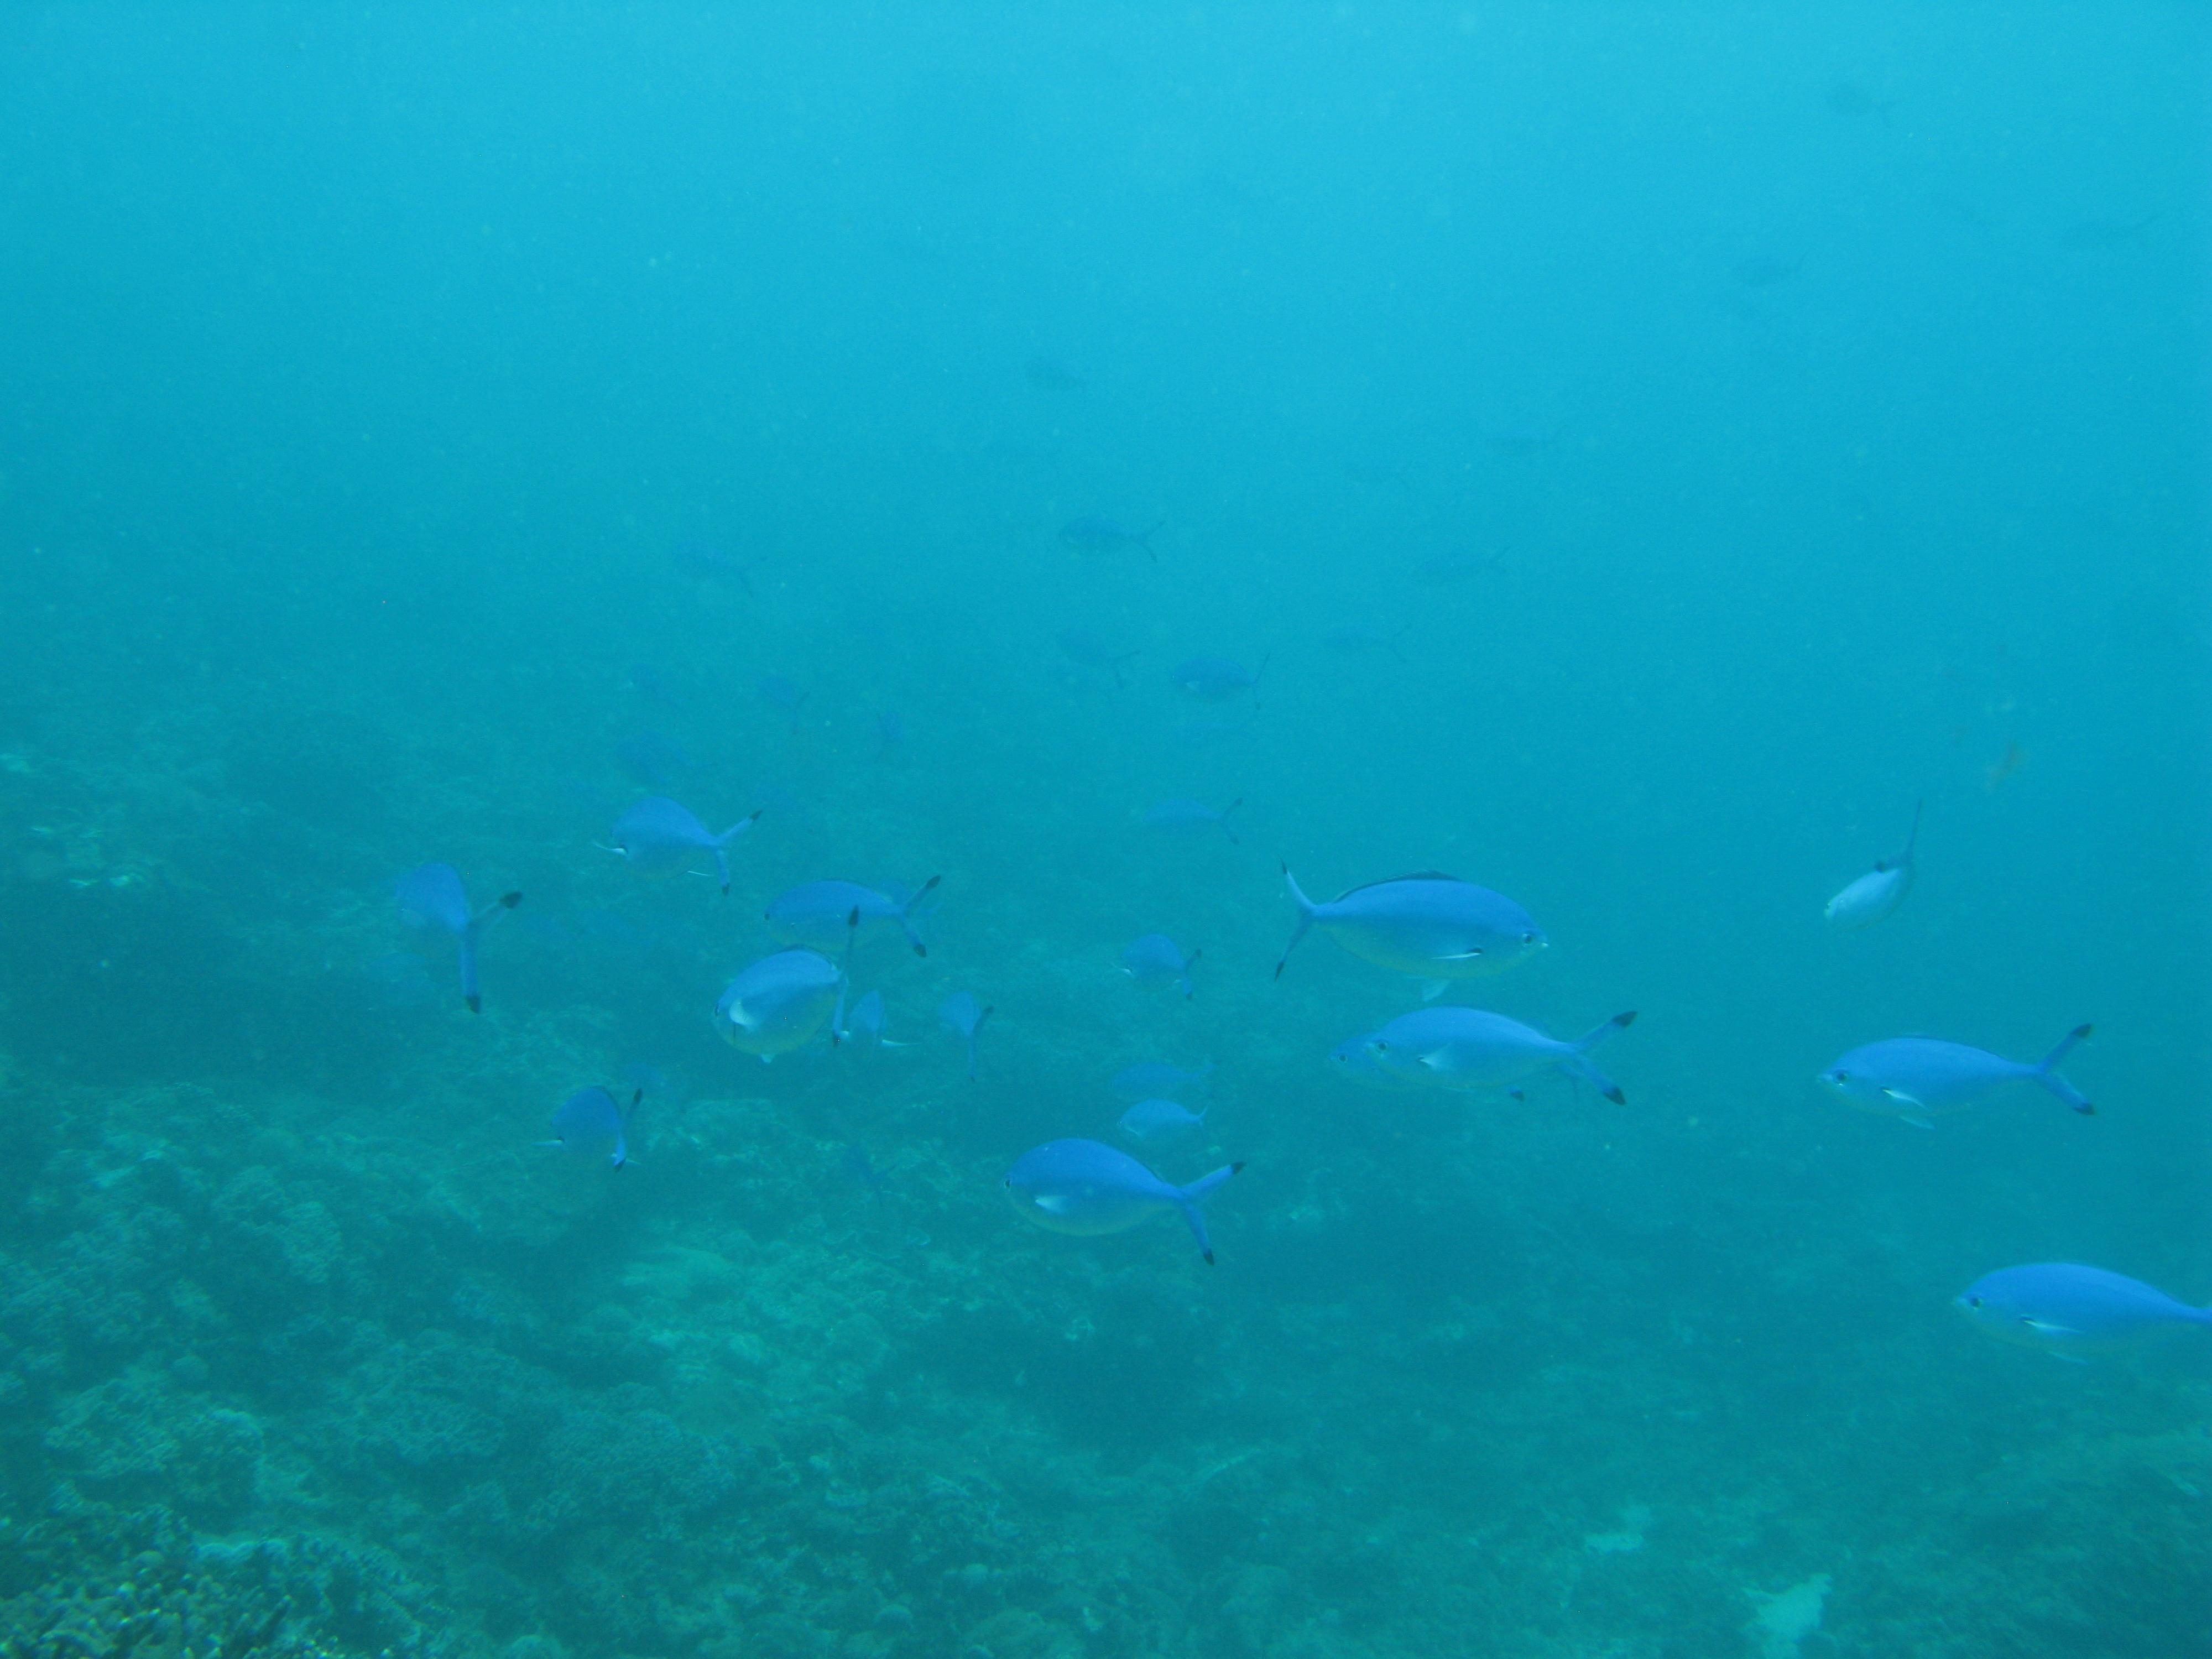Caesio lunaris: (1256, 843, 1587, 1000), (1811, 1009, 2132, 1157), (991, 1126, 1292, 1281), (577, 755, 775, 915), (1952, 1255, 2212, 1371), (404, 852, 536, 1032), (716, 936, 864, 1080), (540, 1063, 679, 1197)
